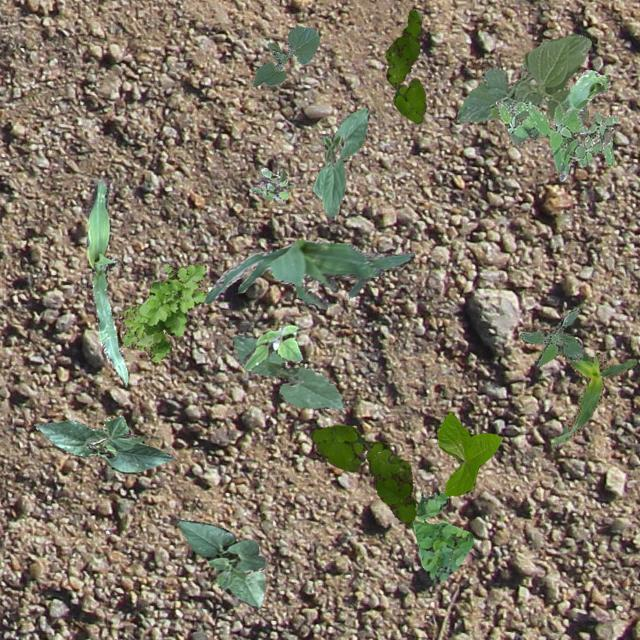crop: (456, 32, 590, 146), (204, 238, 414, 308), (84, 182, 128, 384), (230, 334, 344, 409), (550, 348, 636, 447), (34, 414, 172, 472), (178, 518, 264, 608), (312, 107, 368, 216), (558, 68, 608, 180), (436, 412, 501, 494), (250, 26, 318, 86)
weed: (308, 424, 416, 528), (494, 98, 618, 170), (120, 260, 206, 360), (412, 491, 472, 582), (384, 8, 426, 122), (518, 306, 582, 366), (242, 324, 302, 369), (250, 166, 292, 202)
